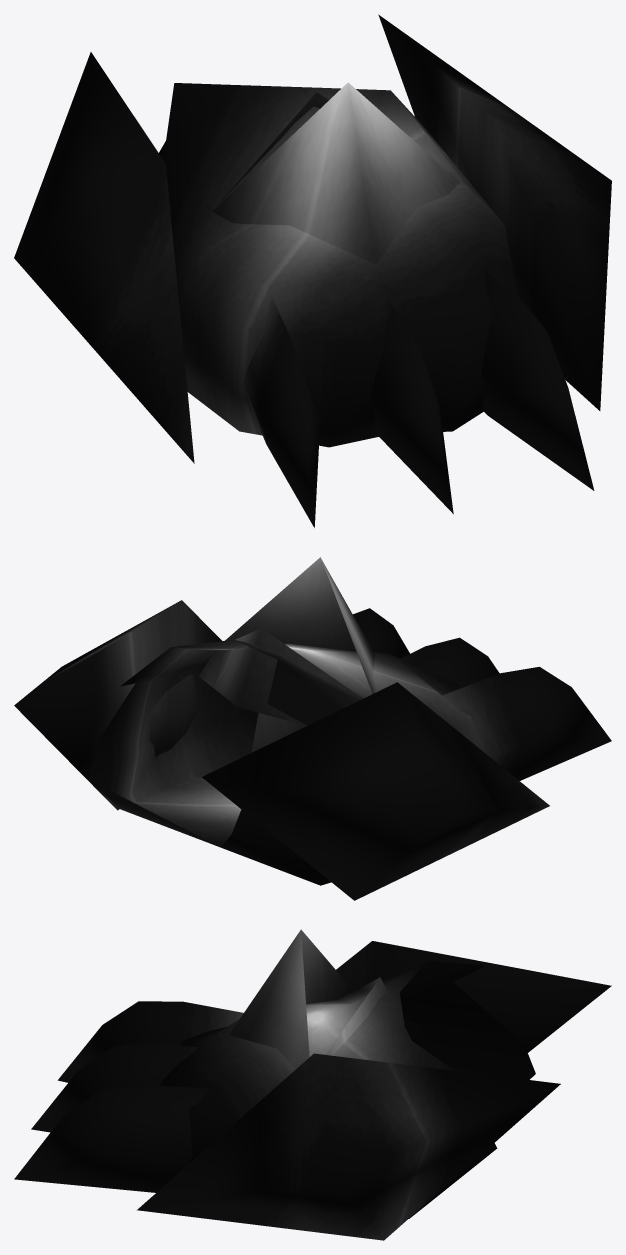
Rendered from 0123_RiShiNaiKeLuoZiMa_SkillB_Mesh_04.glb.
3 renders of one model, top to bottom at view 1: azimuth 30°, elevation 25°; view 2: azimuth 150°, elevation 25°; view 3: azimuth 270°, elevation 25°, orthographic. The views are drawn at different scales.
Bounding box in the file's own units: 1.76 × 0.9738 × 2.2.
1 material, 1 textured.
